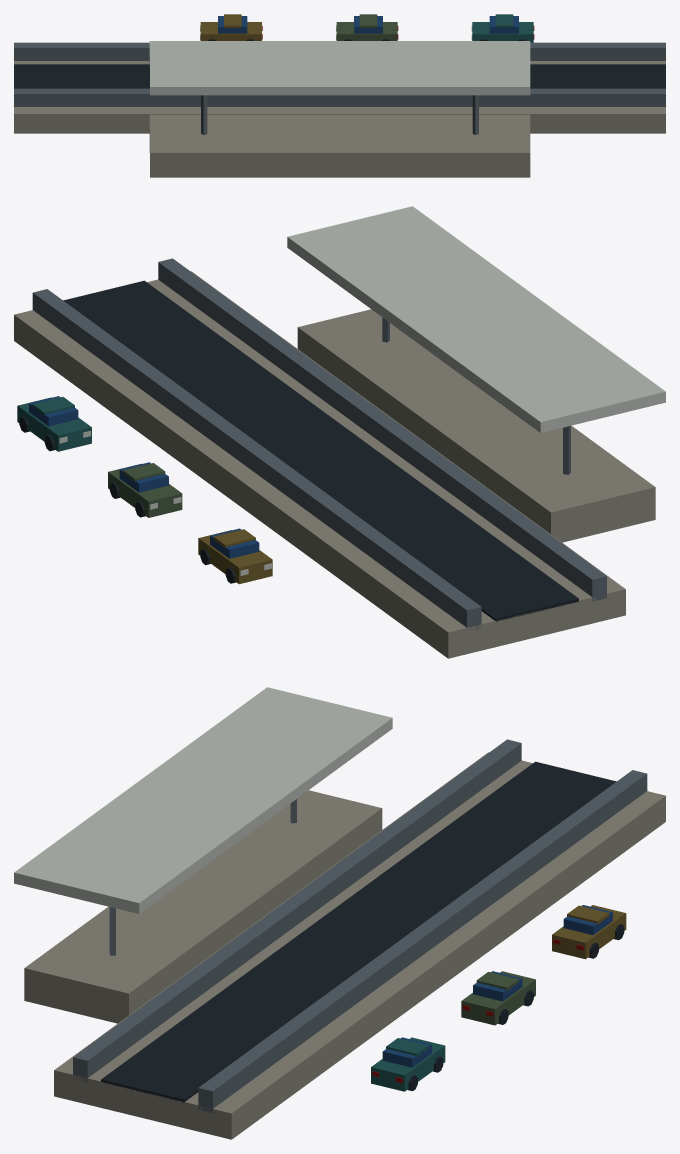
Rendered from maglevstation3.glb.
3 renders of one model, top to bottom at view 1: azimuth 30°, elevation 25°; view 2: azimuth 150°, elevation 25°; view 3: azimuth 270°, elevation 25°, orthographic. The views are drawn at different scales.
Visible parts, largest first — view 1: maglevstation3; view 2: maglevstation3; view 3: maglevstation3.
Boxes of the visible parts, x1,y1,x2,y2 form: maglevstation3: (14,14,665,177); maglevstation3: (14,206,665,658); maglevstation3: (14,687,665,1139).
Bounding box in the file's own units: 70.85 × 11.5 × 54.05.
